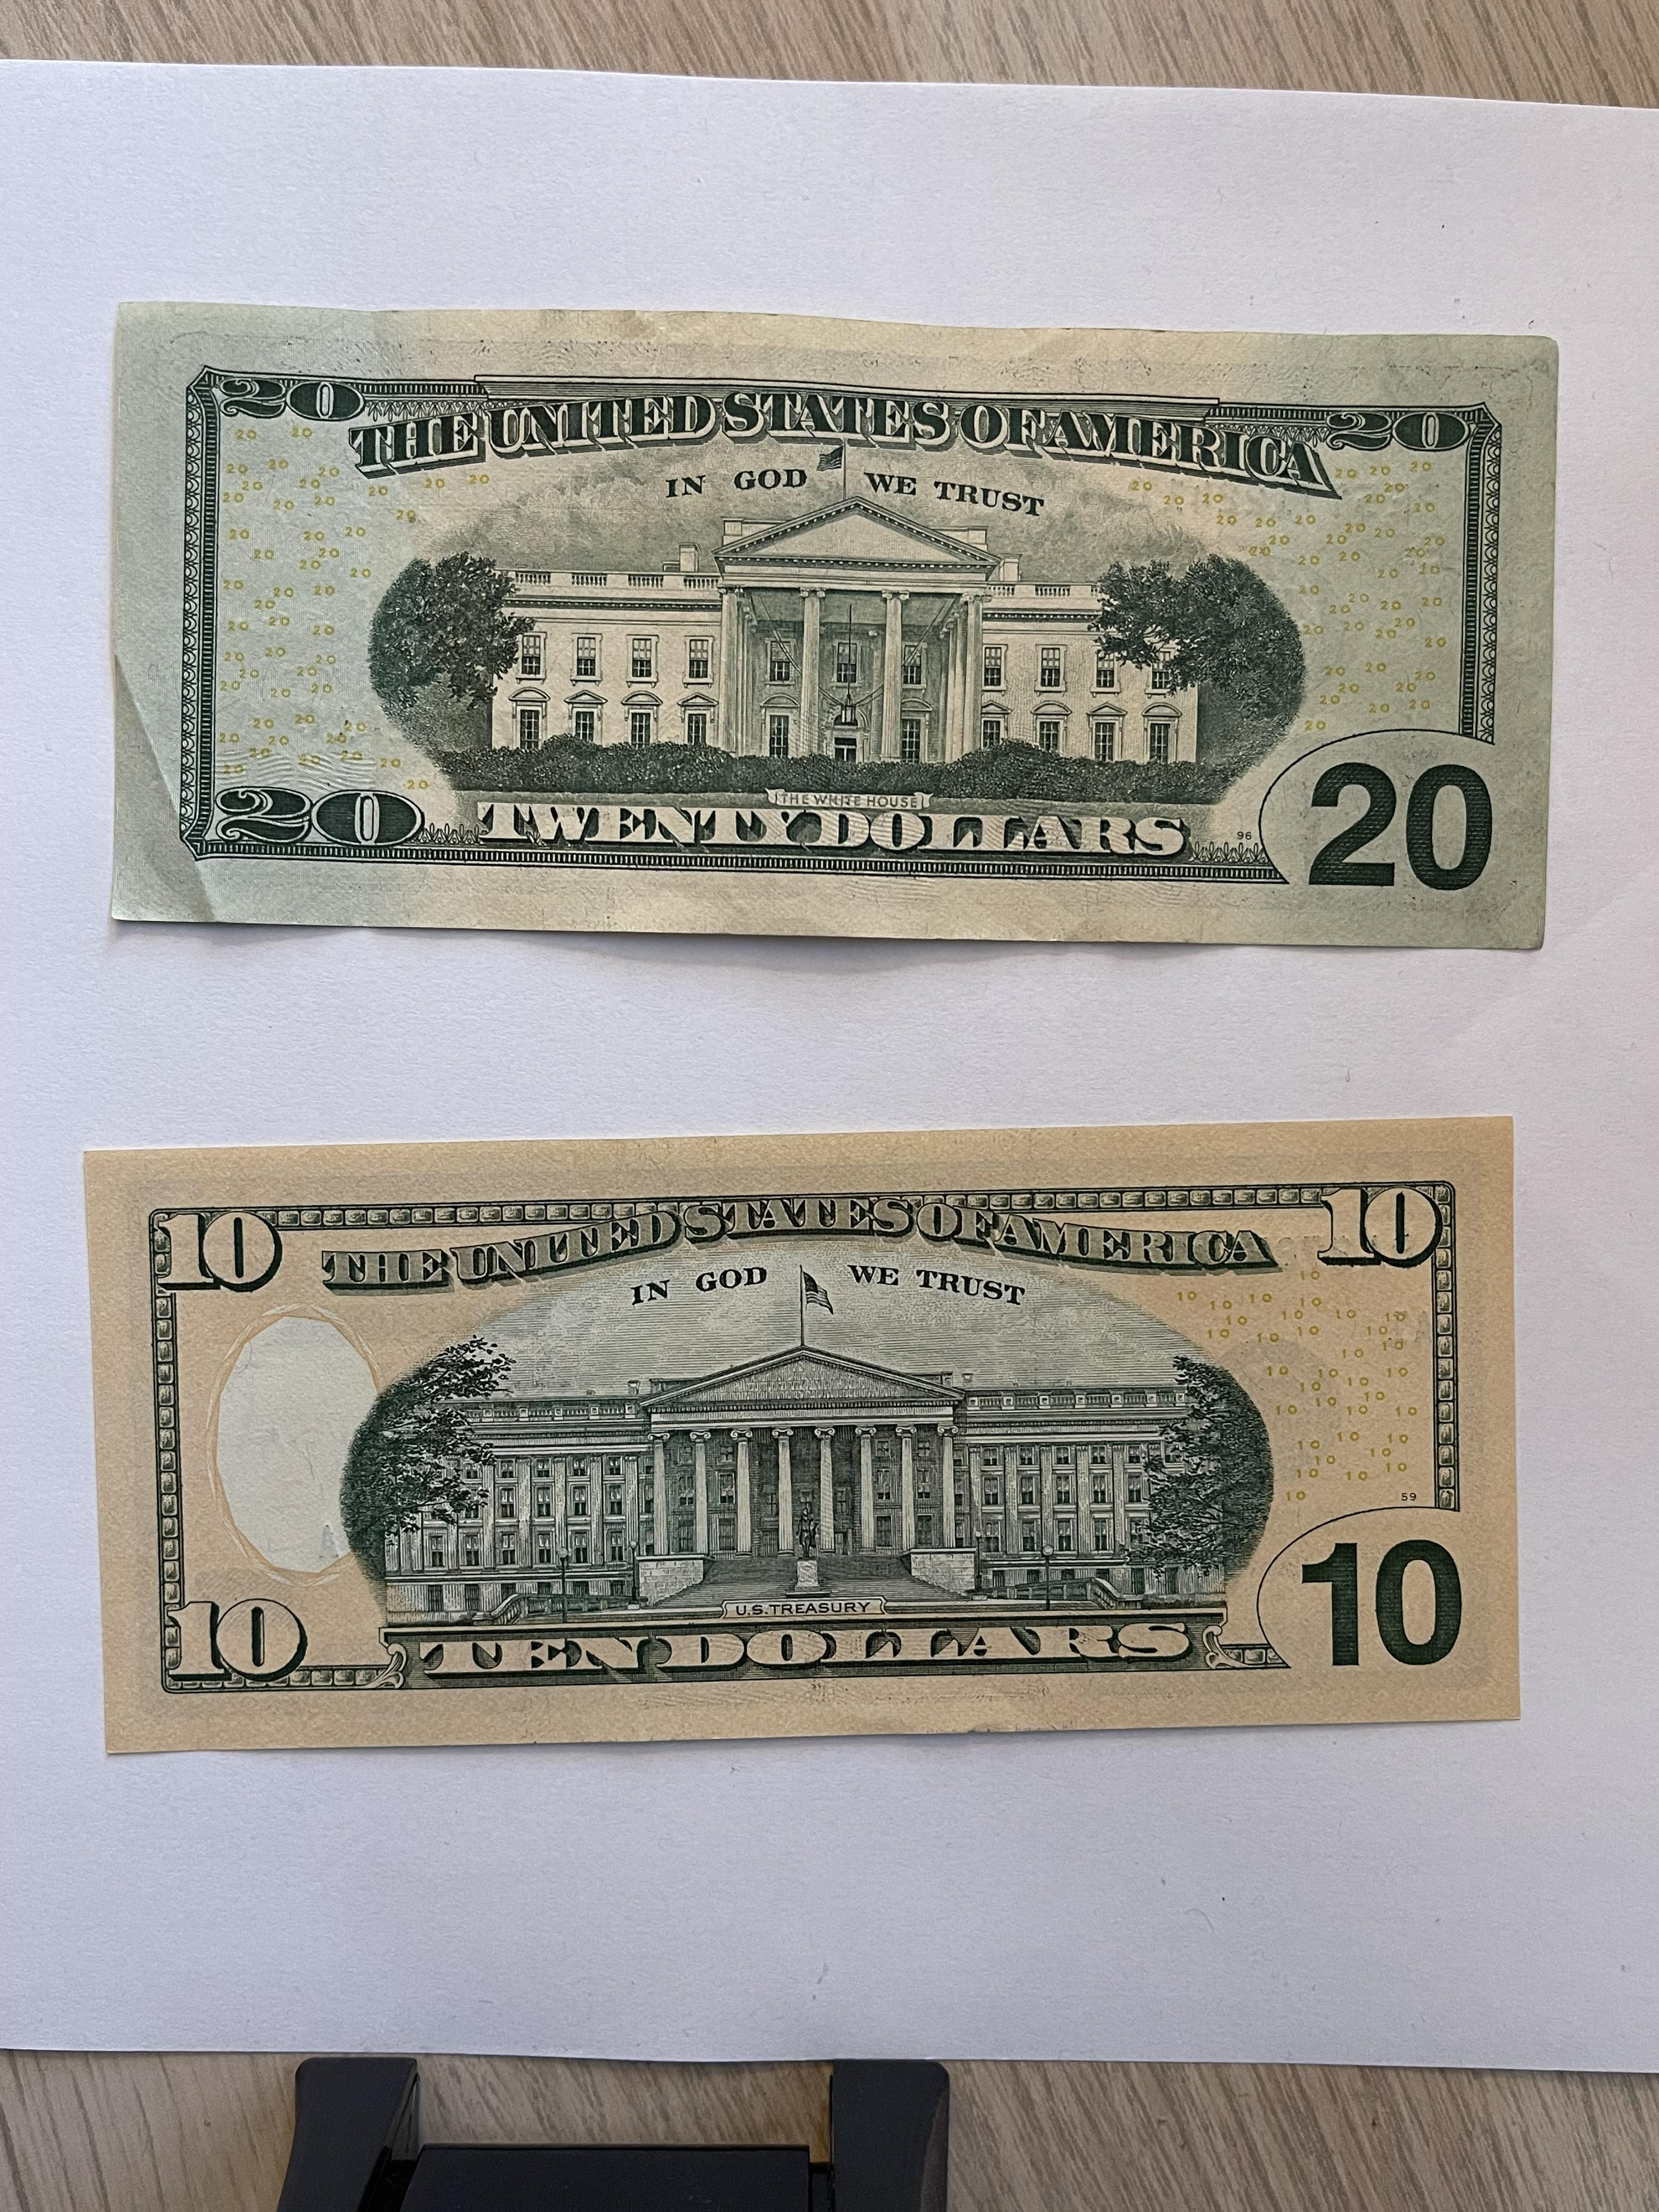TenBill: (75, 1113, 1525, 1761)
TwentyBill: (108, 296, 1563, 956)
